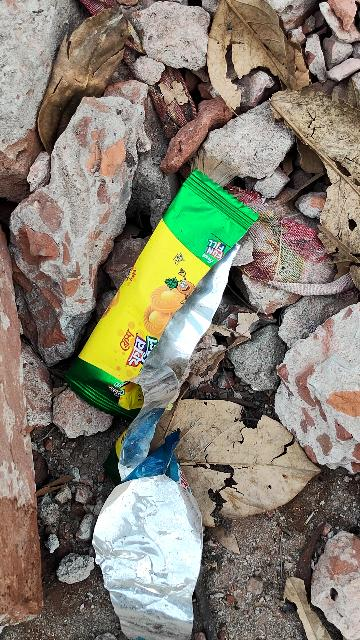packet: (59, 175, 293, 441)
